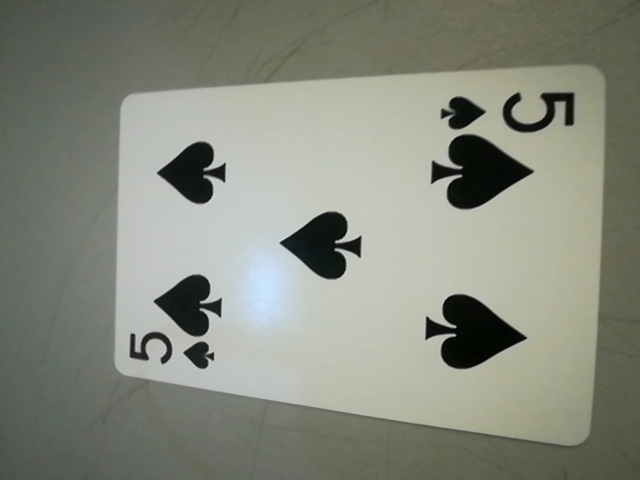ht 5: (436, 85, 585, 143)
